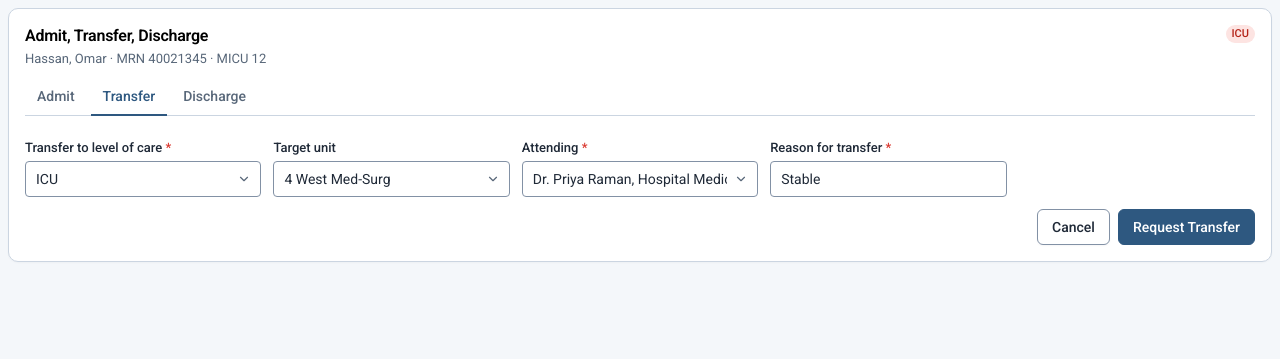
ADTPanel › warns on a step down from ICU
The image size is (1280, 359).
Expected: the text "Step-down in care" is not shown
Step 1. Select "Med-Surg" in the dropdown labelled "Transfer to level of care *" → (143, 179), box 25,161 -> 261,197
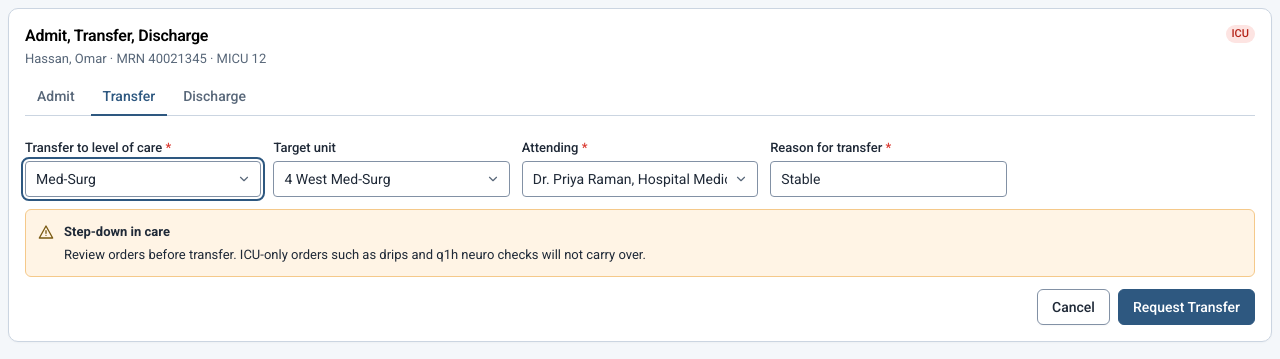
Expected: the text "Step-down in care" is shown, 64,224 -> 170,239
